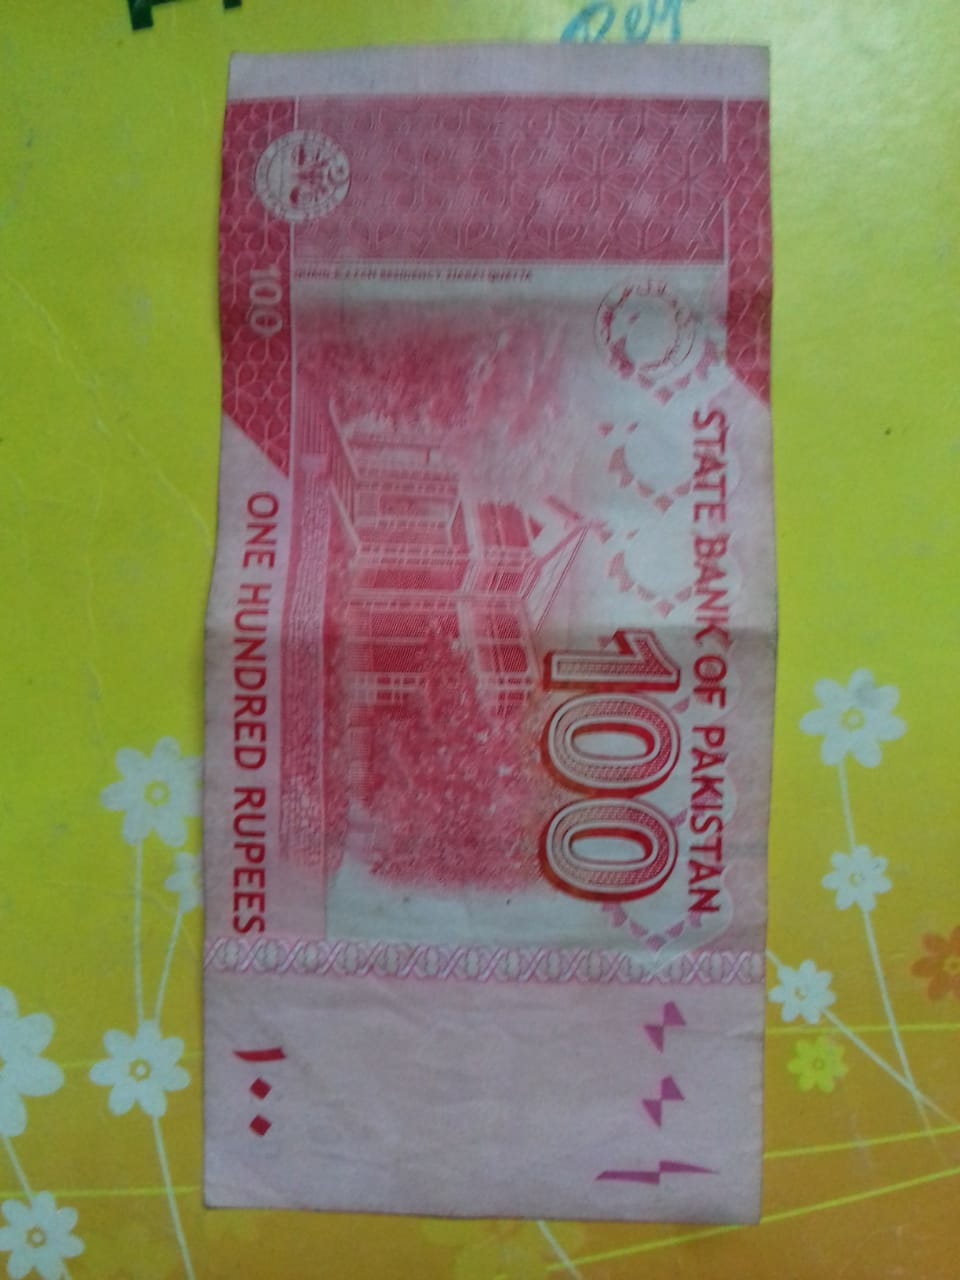100 rupee: (205, 46, 766, 1223)
